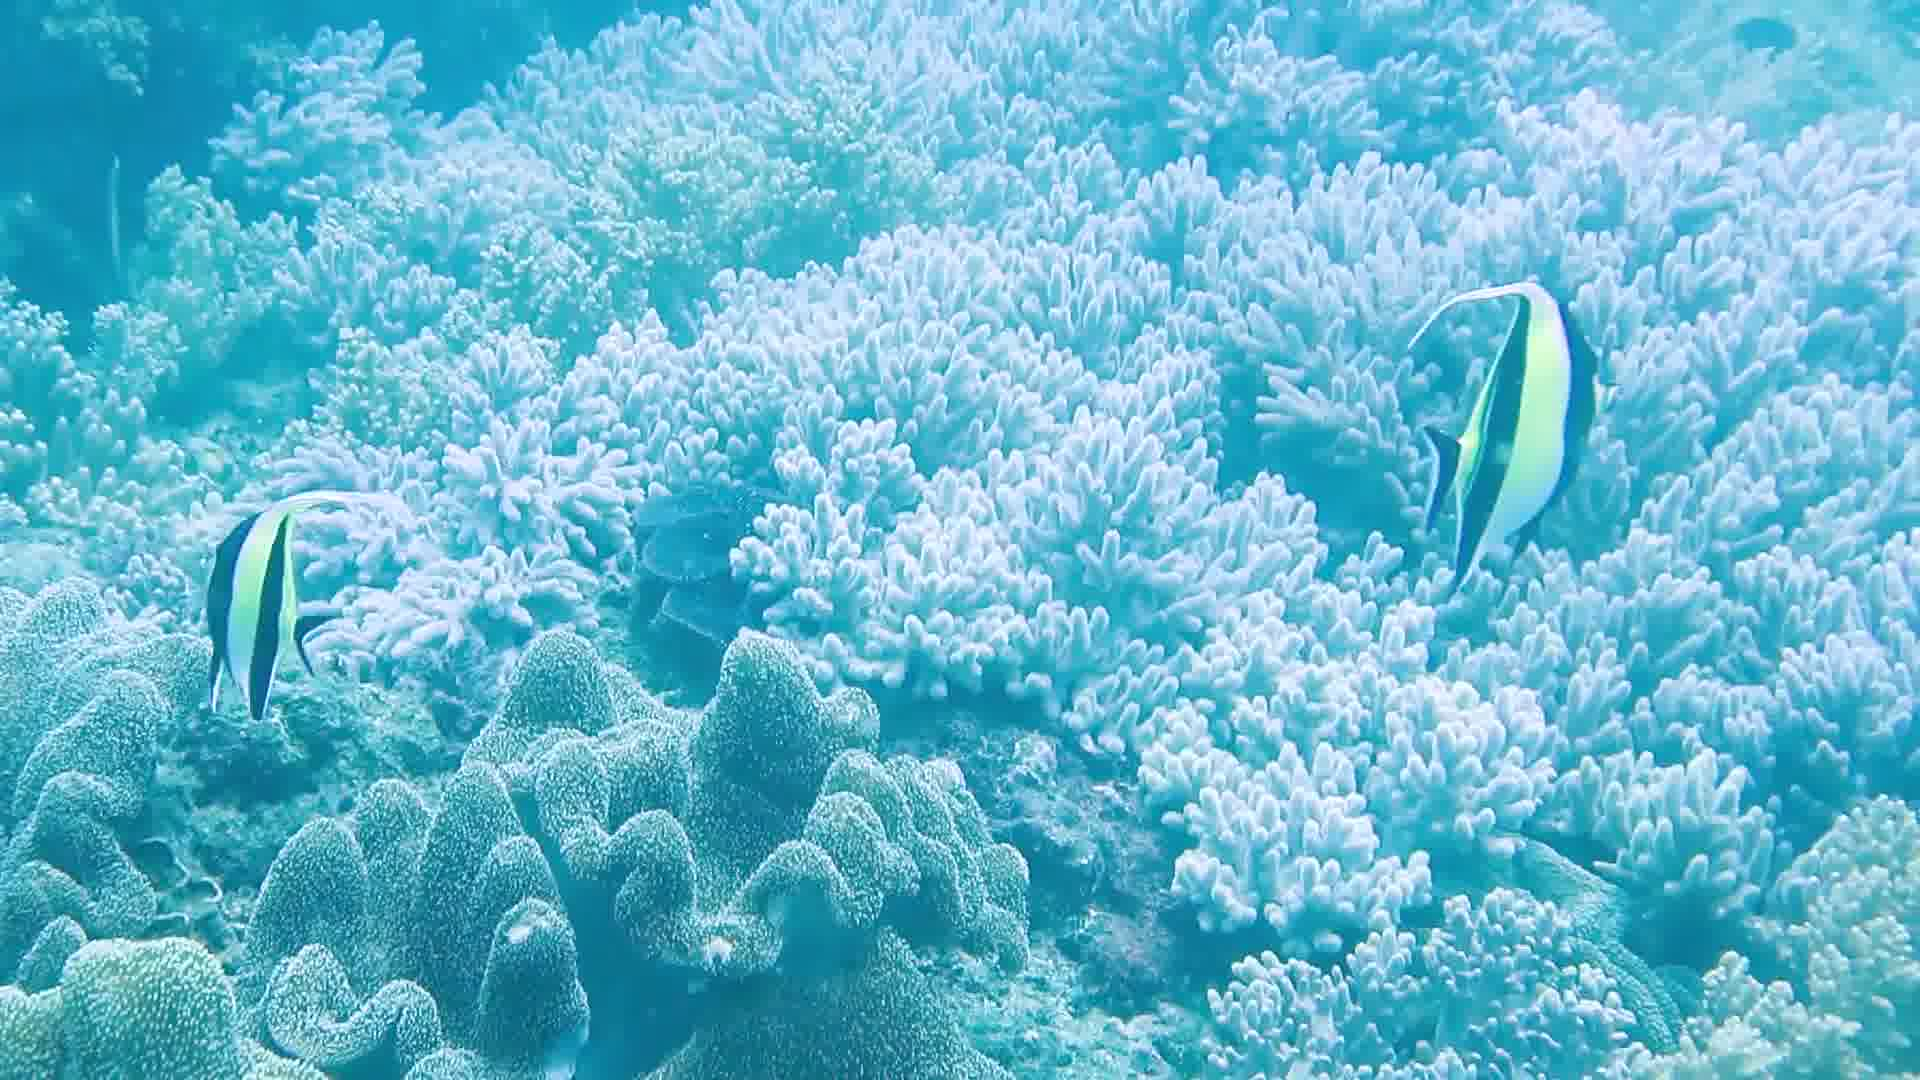Zanclus cornutus: (1425, 255, 1596, 605), (196, 506, 342, 724)
